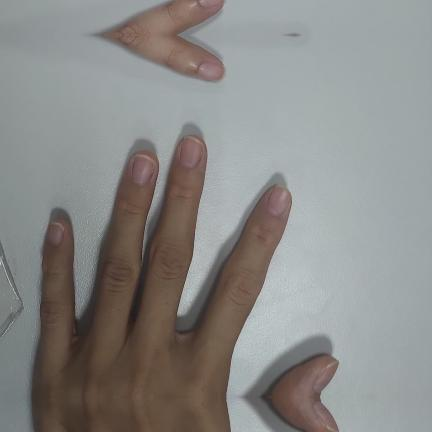Nail: (313, 360, 339, 392), (313, 401, 339, 432), (267, 184, 291, 217), (180, 135, 202, 166), (132, 153, 154, 183), (198, 61, 227, 80), (49, 221, 64, 245), (199, 0, 227, 7)
